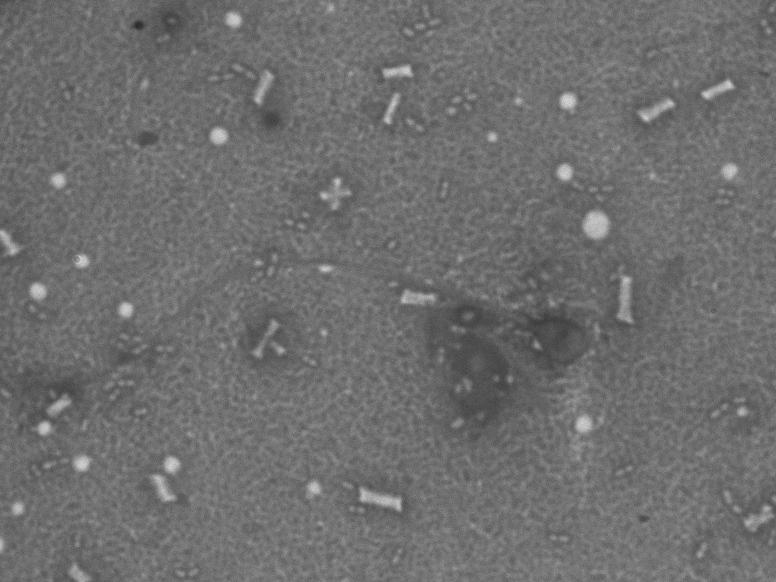Abnormal: (85, 223, 628, 435)
